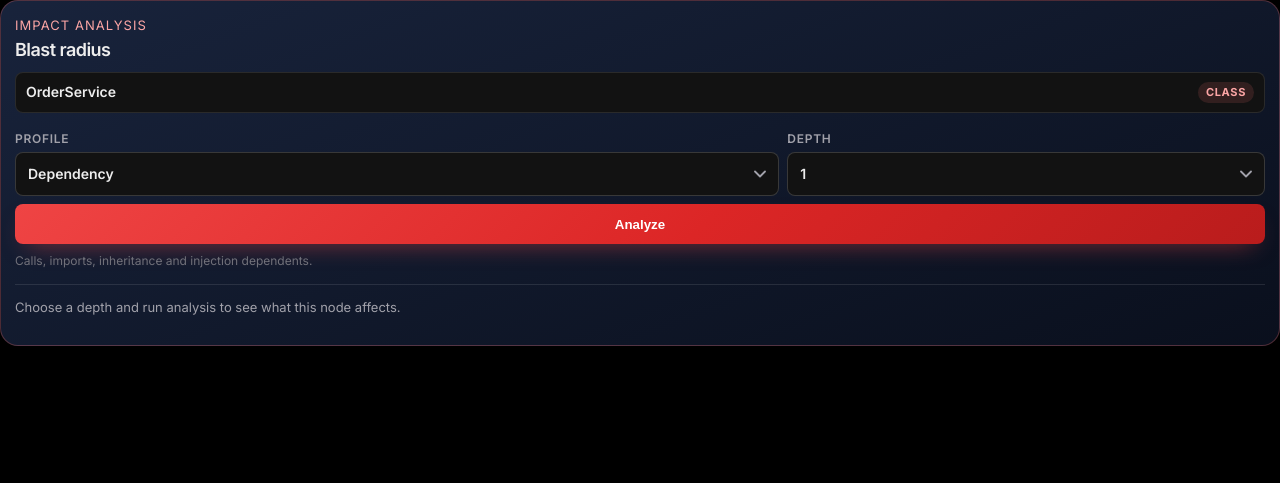
Test case: ImpactAnalysisPanel › invalidates a shown result when the profile selector changes
Submit the form, box [15,129,1265,244]
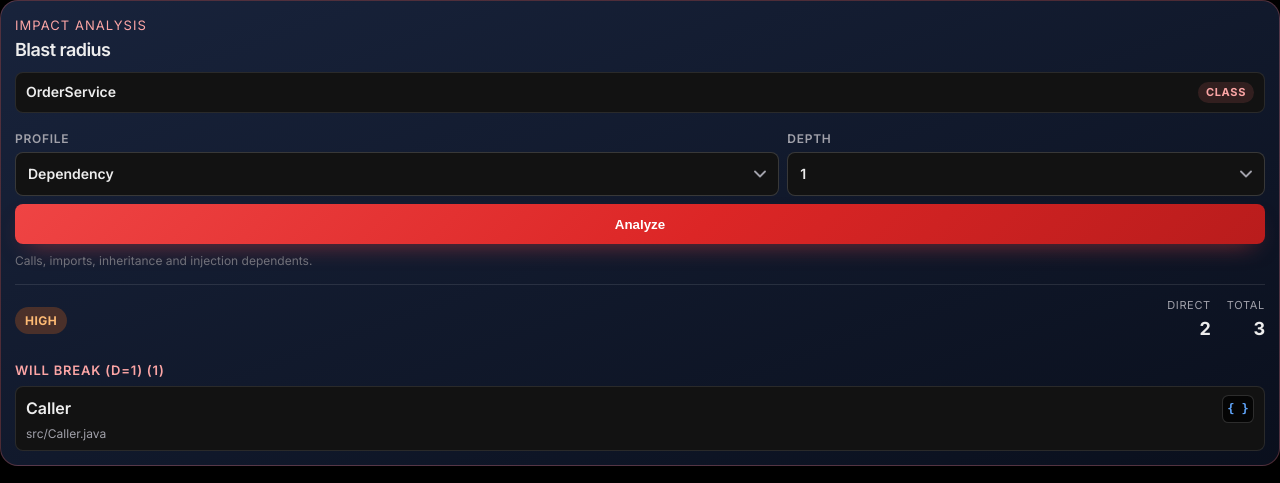
Result: the text "Will break" is shown at [15,362,164,378]
Click the button with id "impact-profile" at (71, 173), box [15,152,779,196]
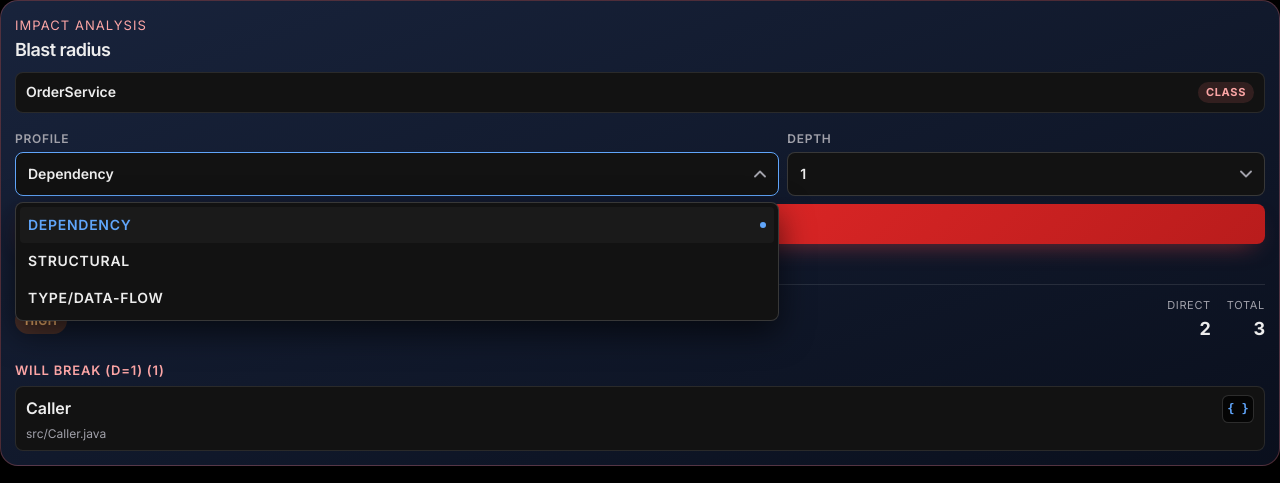
Click the option "Structural" at (79, 261), box [28,252,130,270]
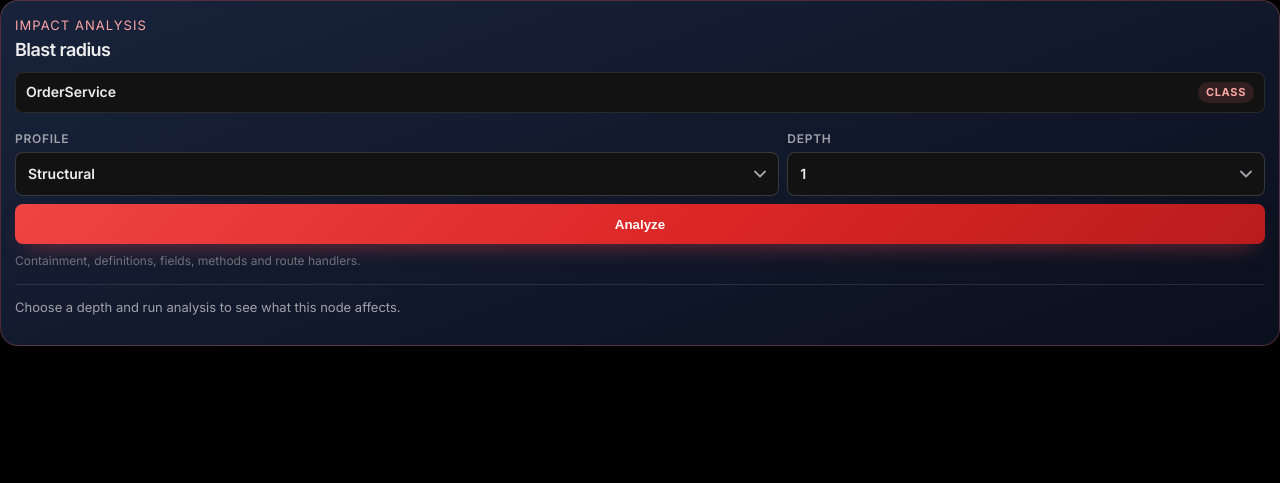
Result: the text "Will break" is gone
Result: the text "Choose a depth and run analysis" is shown at [15,299,401,315]
